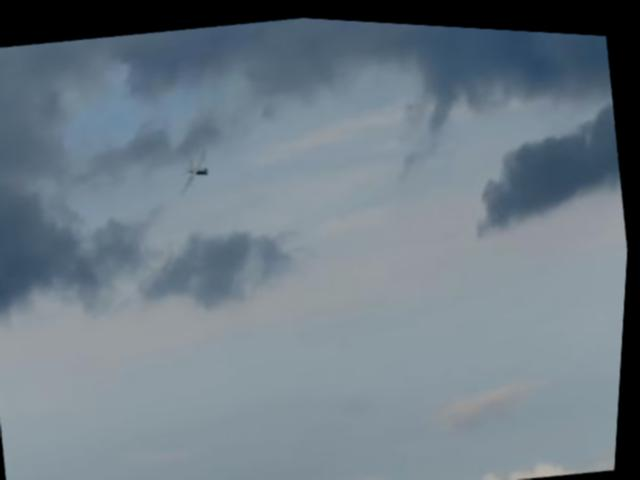uav: (171, 136, 223, 199)
